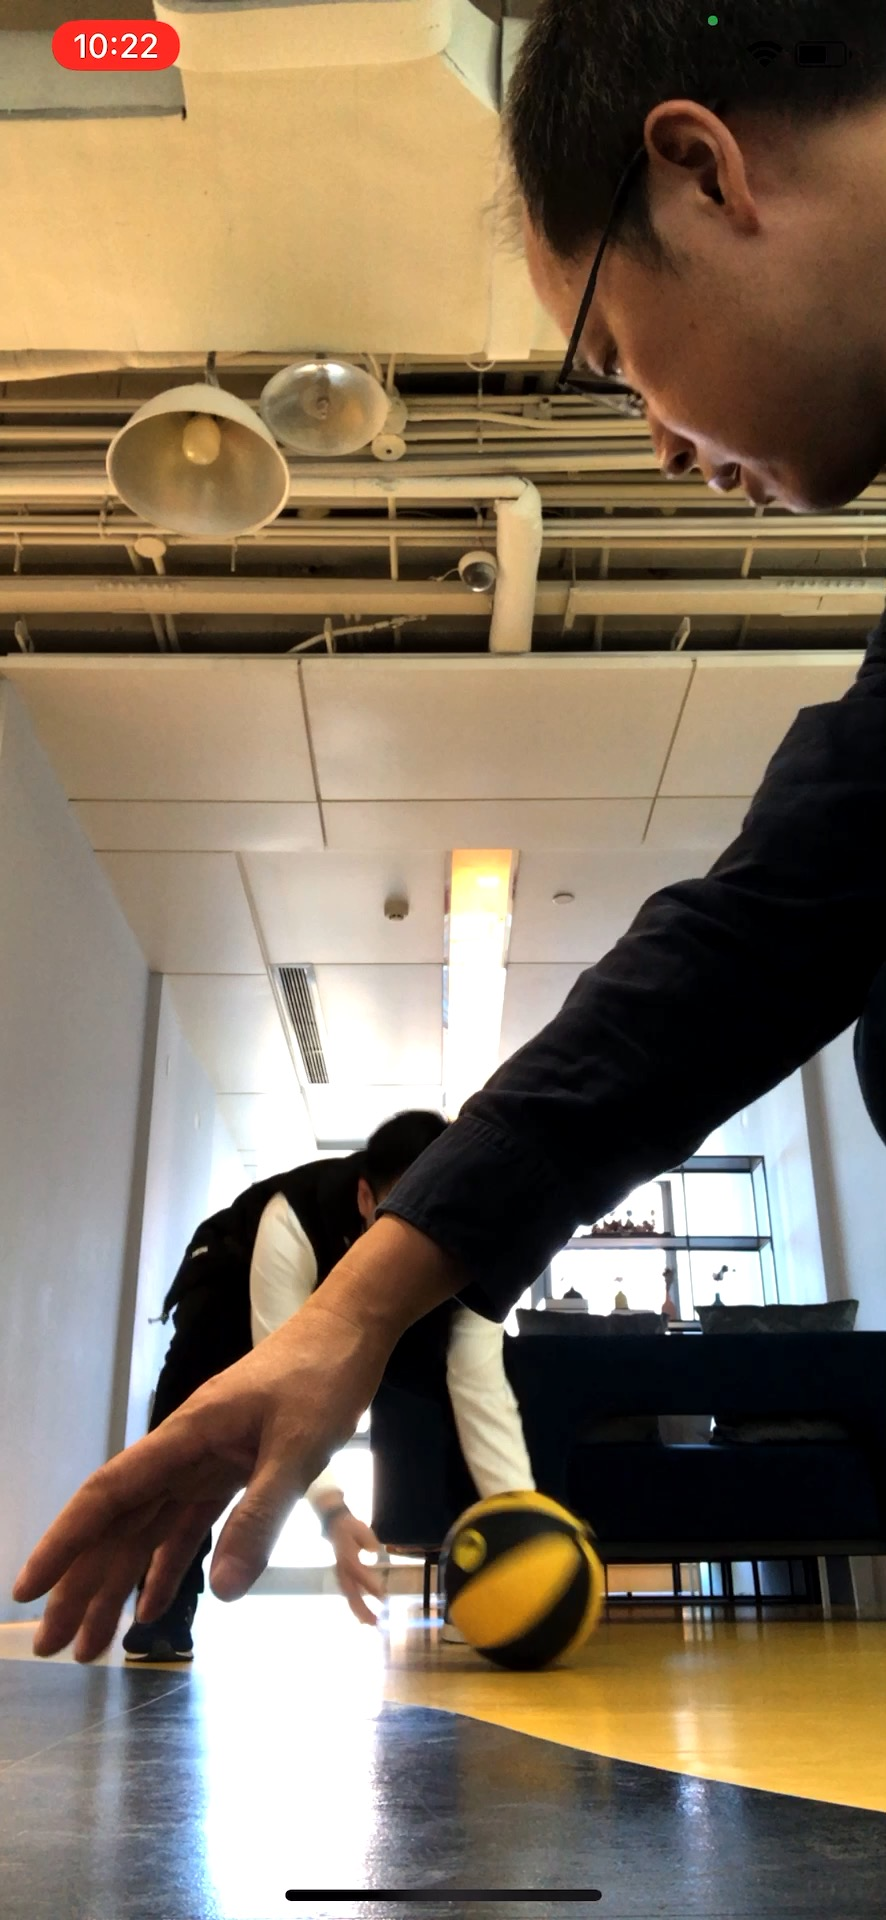ball: (443, 1488, 606, 1670)
